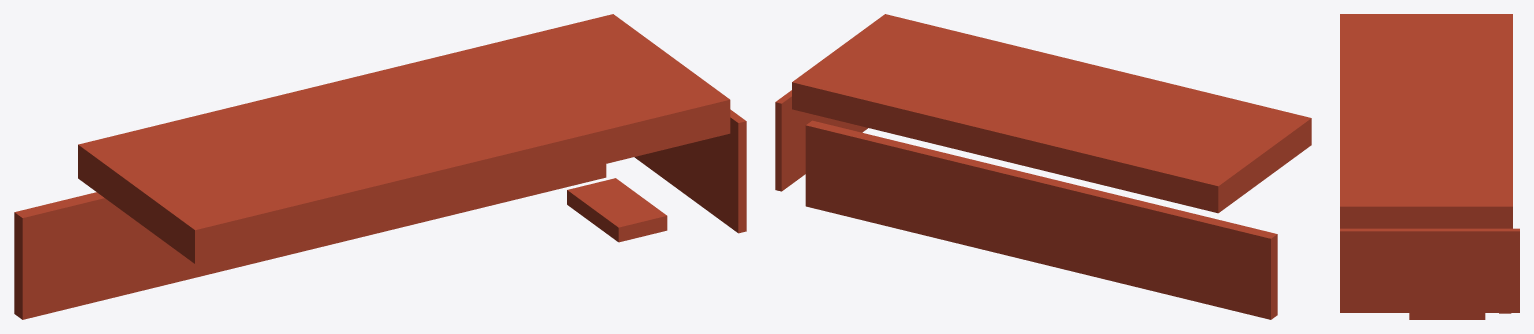
Rendered from oil-cooler-cap.glb.
3 views of the same model, side by side, from view 1: azimuth 30°, elevation 25°; view 2: azimuth 150°, elevation 25°; view 3: azimuth 270°, elevation 25° (orthographic). The views are drawn at different scales.
Parts seen in each view (by area): view 1: oil-cooler-cap:shroudRed; view 2: oil-cooler-cap:shroudRed; view 3: oil-cooler-cap:shroudRed.
Boxes of the visible parts, x1=… form: oil-cooler-cap:shroudRed: x1=14, y1=14, x2=746, y2=319; oil-cooler-cap:shroudRed: x1=775, y1=14, x2=1311, y2=319; oil-cooler-cap:shroudRed: x1=1340, y1=14, x2=1519, y2=319.
Size of the model in its own units: 152 by 38.01 by 52.
